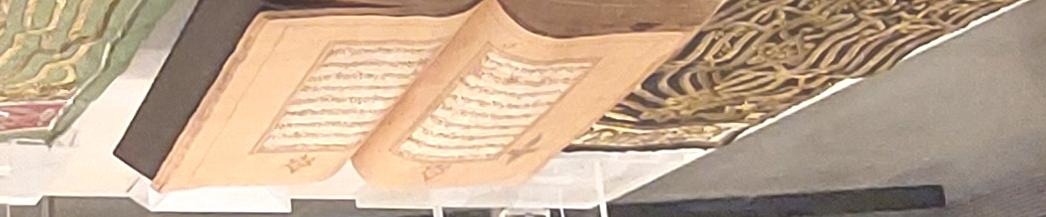The_HolyQuran: (119, 0, 729, 195)
